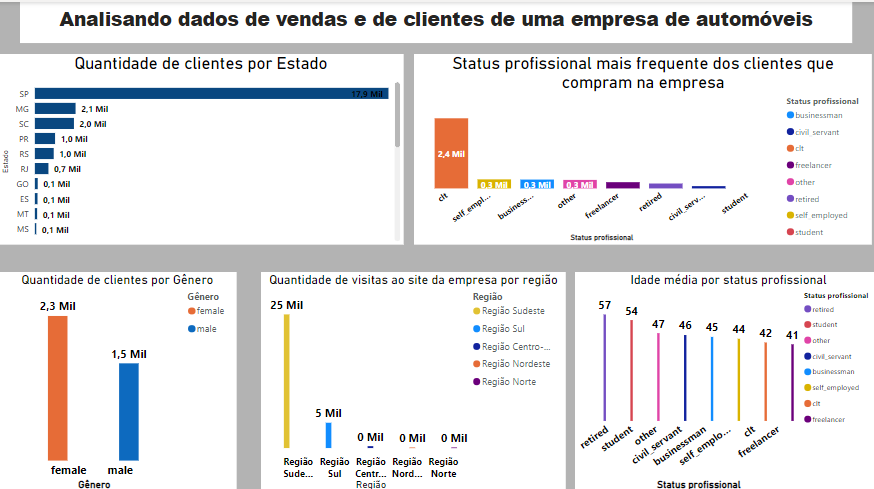

What the dashboard file says about the page in this screenshot:
{"tool":"powerbi","page":{"name":"Página 1","canvas":[1280,720],"ordinal":0},"visuals":[{"type":"barChart","title":"Quantidade de clientes por Estado","fields":{"Category":["Quantidade de clientes por Estado (Tabelas) (2).Estado"],"Y":["Sum(Quantidade de clientes por Estado (Tabelas) (2).contagem)"]},"box":[10.1,74.7,583.5,274.5],"z":0},{"type":"columnChart","title":"Status profissional mais frequente dos clientes que compram na empresa","fields":{"Y":["Sum(Status profissional que mais aparece (Tabelas).Pagamentos)"],"Category":["Status profissional que mais aparece (Tabelas).Status profissional"],"Series":["Idade média dos clientes por status profissional (Tabelas) (2).Status profissional"]},"box":[607.9,74.7,658.2,274.5],"z":1000},{"type":"clusteredColumnChart","title":"Quantidade de clientes por Gênero","fields":{"Y":["Sum(Quantidade de clientes por gênero (Tabelas).Contagem)"],"Category":["Quantidade de clientes por gênero (Tabelas).Gênero"],"Series":["Quantidade de clientes por gênero (Tabelas).Gênero"]},"box":[10.1,388,343.5,319],"z":2000},{"type":"clusteredColumnChart","title":"Quantidade de visitas ao site da empresa por região","fields":{"Category":["Quantidade de visitas ao site por regiões (Tabelas).Região"],"Y":["Sum(Quantidade de visitas ao site por regiões (Tabelas).Visitas)"],"Series":["Quantidade de visitas ao site por regiões (Tabelas).Região"]},"box":[388,388,438.3,319],"z":3000},{"type":"clusteredColumnChart","title":"Idade média por status profissional","fields":{"Y":["Sum(Idade média dos clientes por status profissional (Tabelas) (2).Idade_media)"],"Category":["Idade média dos clientes por status profissional (Tabelas) (2).Status profissional"],"Series":["Idade média dos clientes por status profissional (Tabelas) (2).Status profissional"]},"box":[839.3,388,441.2,319],"z":4000},{"type":"textbox","box":[41.7,0,1195.7,58.9],"z":5000}]}

Visuals, with their boxes in screenshot pixels (x1, y1, x2, y2), scaled from the page's 1280x720 canvas onto the 874x489 screenshot:
"Quantidade de clientes por Estado" barChart: 7, 51, 405, 237
"Status profissional mais frequente dos clientes que compram na empresa" columnChart: 415, 51, 865, 237
"Quantidade de clientes por Gênero" clusteredColumnChart: 7, 264, 241, 480
"Quantidade de visitas ao site da empresa por região" clusteredColumnChart: 265, 264, 564, 480
"Idade média por status profissional" clusteredColumnChart: 573, 264, 873, 480
textbox: 28, 0, 845, 40
